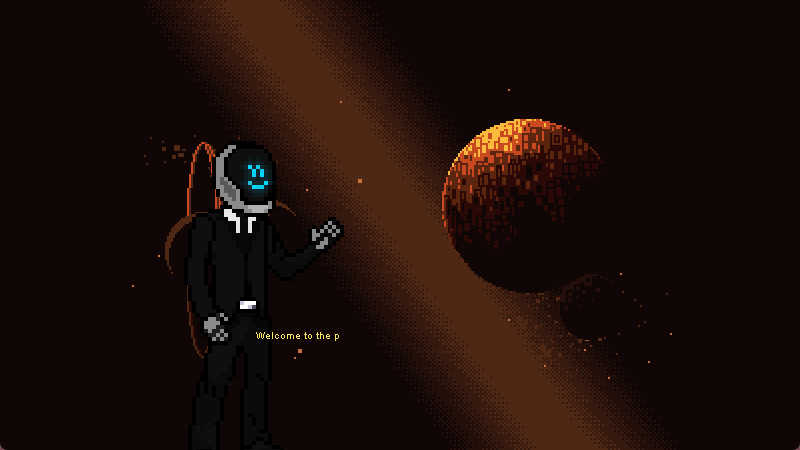next_screen: (3, 1, 799, 447)
